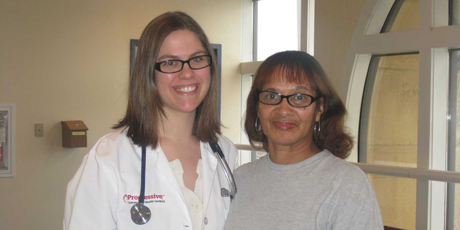stroke: (265, 85, 319, 140)
